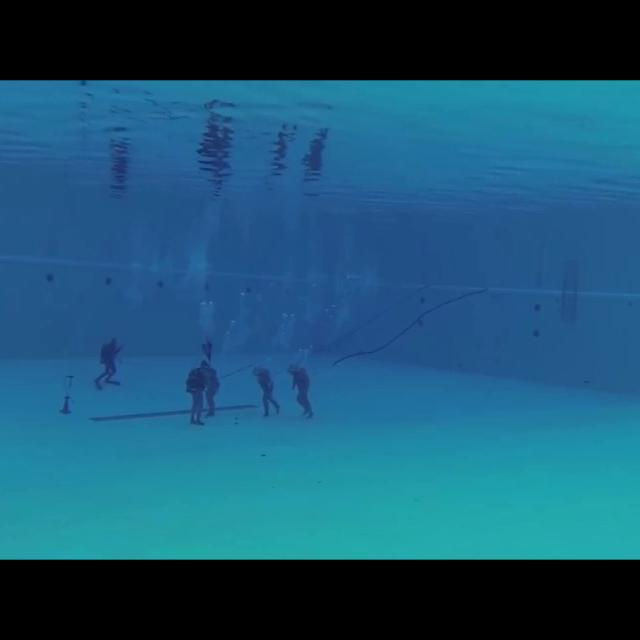human: (284, 356, 322, 424), (90, 331, 128, 395), (182, 358, 213, 431), (251, 361, 282, 419), (198, 354, 223, 421)
